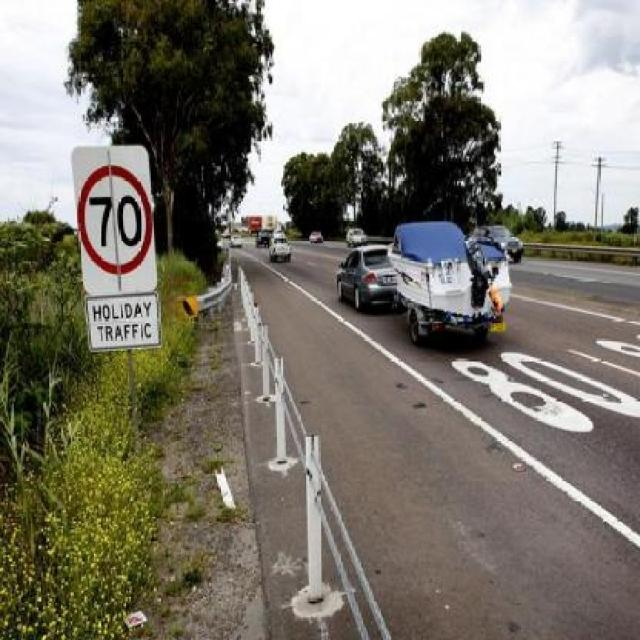forb_speed_over_70: (77, 160, 152, 285)
